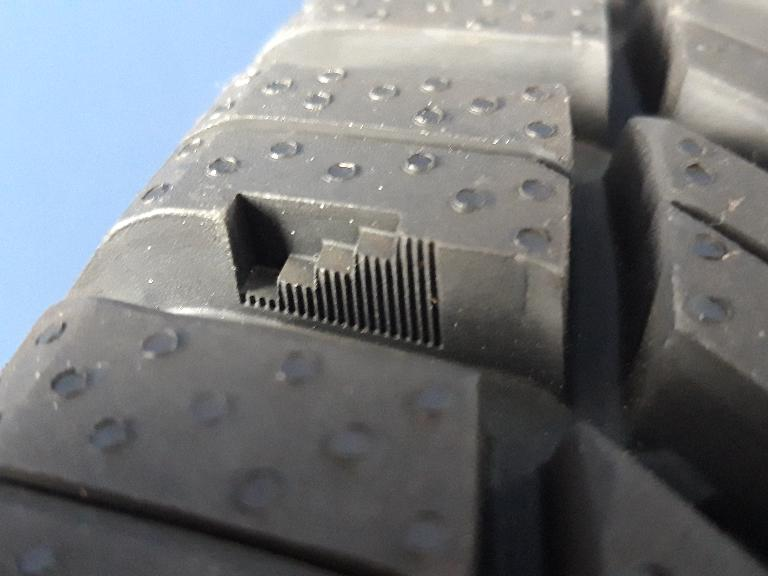temoin:100: (210, 180, 454, 363)
